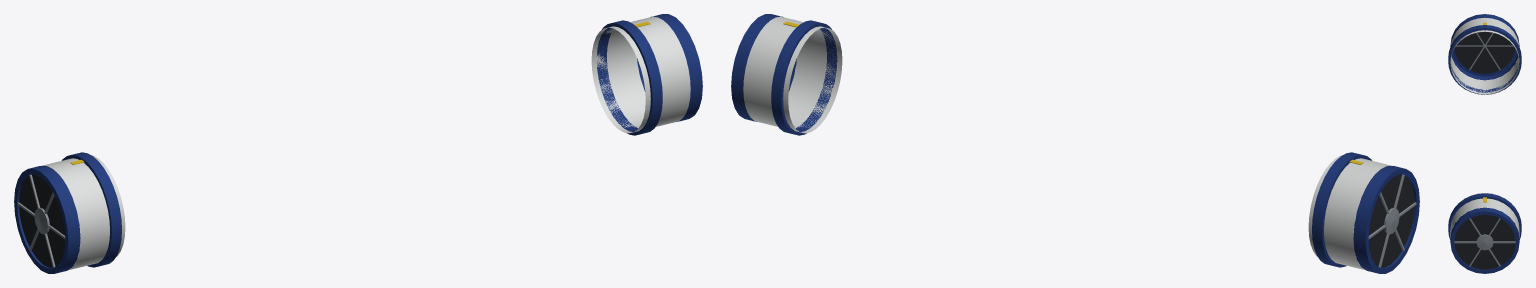
Rendered from l200_fan.obj.
The picture shows the model from 3 angles, left to right: view 1: azimuth 30°, elevation 25°; view 2: azimuth 150°, elevation 25°; view 3: azimuth 270°, elevation 25°; orthographic projection. The views are drawn at different scales.
Parts seen in each view (by area): view 1: l200_fan; view 2: l200_fan; view 3: l200_fan.
Boxes of the visible parts, box(x1,y1,x2,y2) form: l200_fan: box(14, 14, 702, 273); l200_fan: box(731, 14, 1419, 273); l200_fan: box(1448, 14, 1521, 273).
Size of the model in its own units: 6.24 by 0.98 by 0.98.
